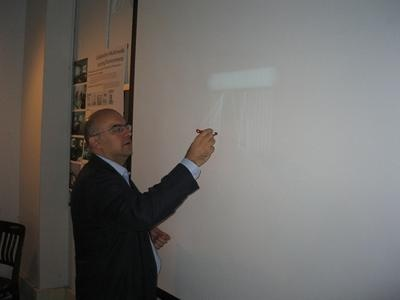person without safety: (72, 105, 162, 300)
